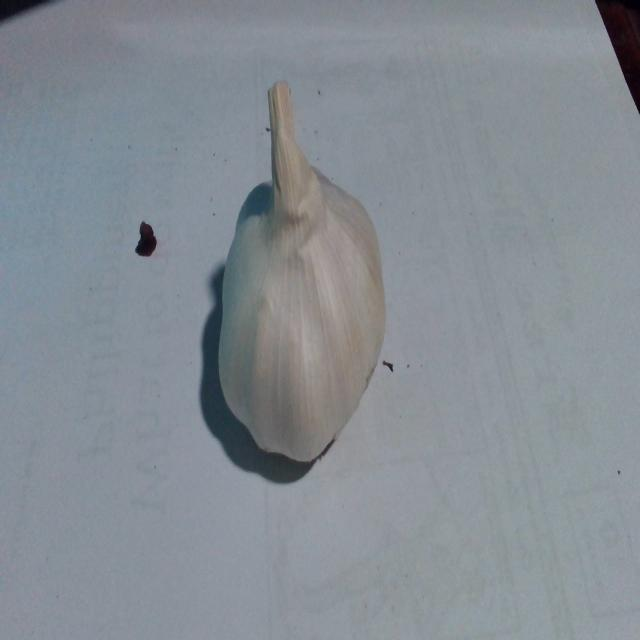garlic: (215, 169, 390, 481)
